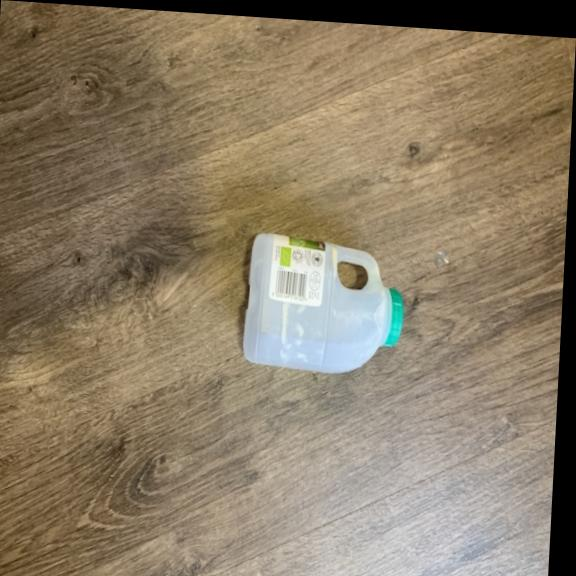Plastik: (238, 230, 407, 382)
